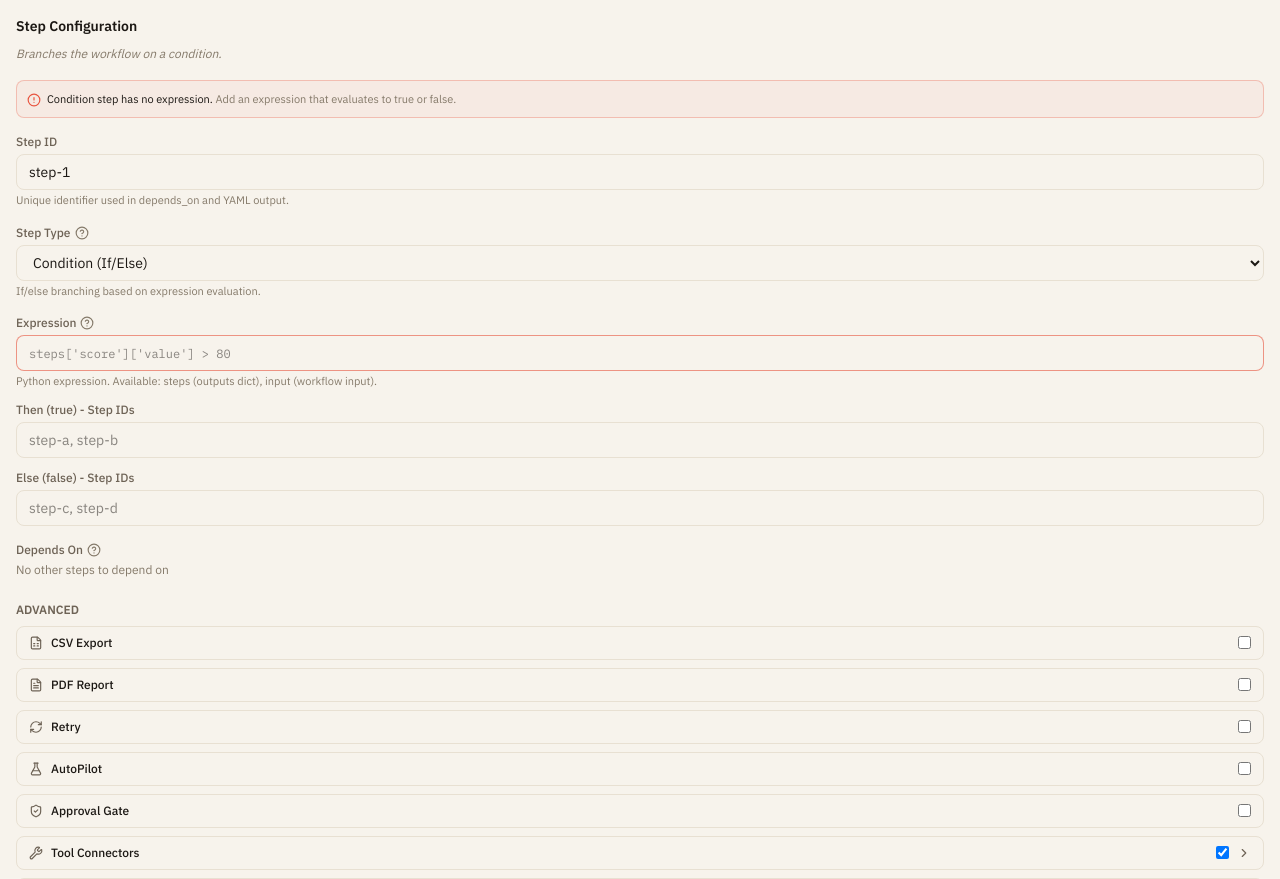
Scenario: StepConfigPanel — field-level help (②) › exposes help for the condition Expression field
The width and height of the screenshot is (1280, 879).
Focus the 2nd element named "Expression help": (88, 323) 80,316 -> 94,330
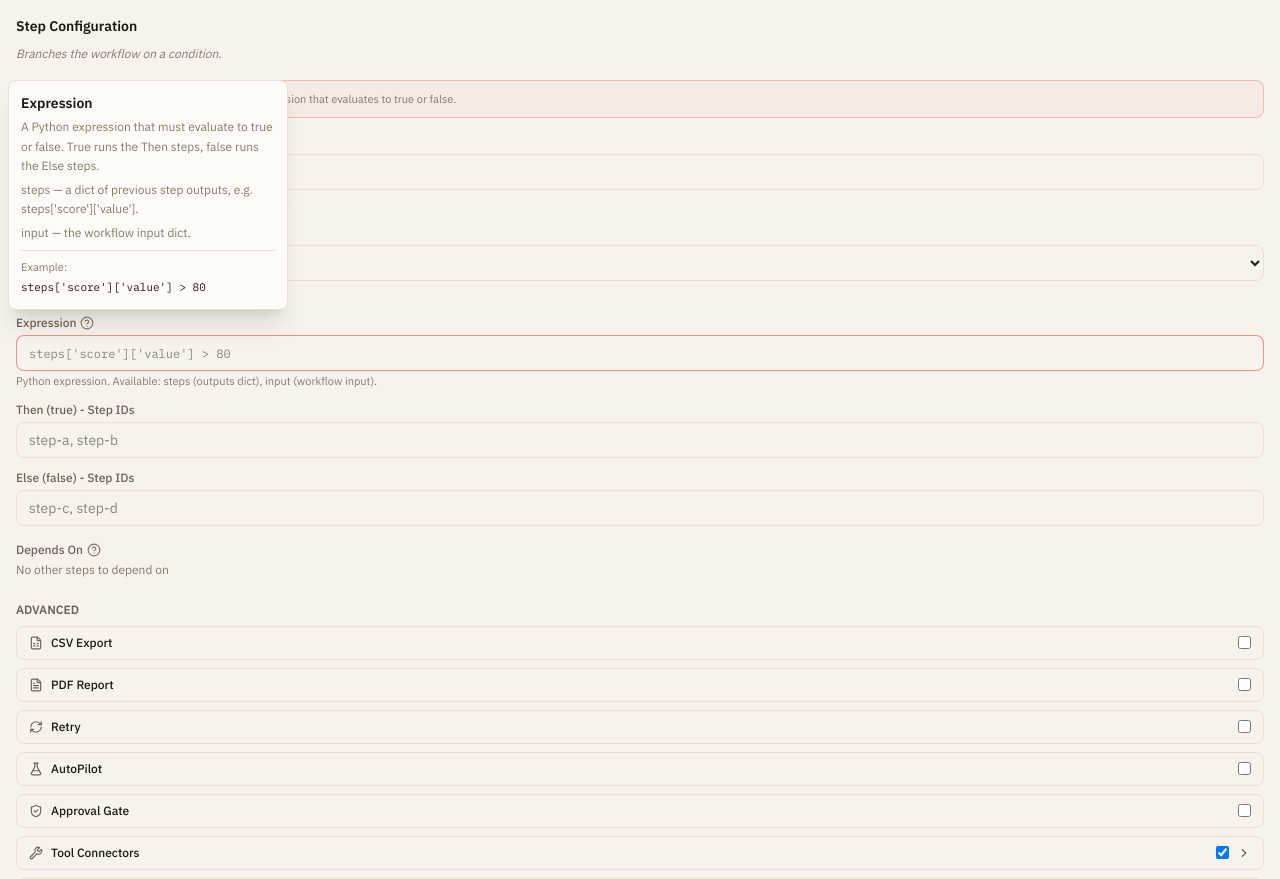
Result: the text "must evaluate to true or false" is shown at 21,119 -> 273,173
